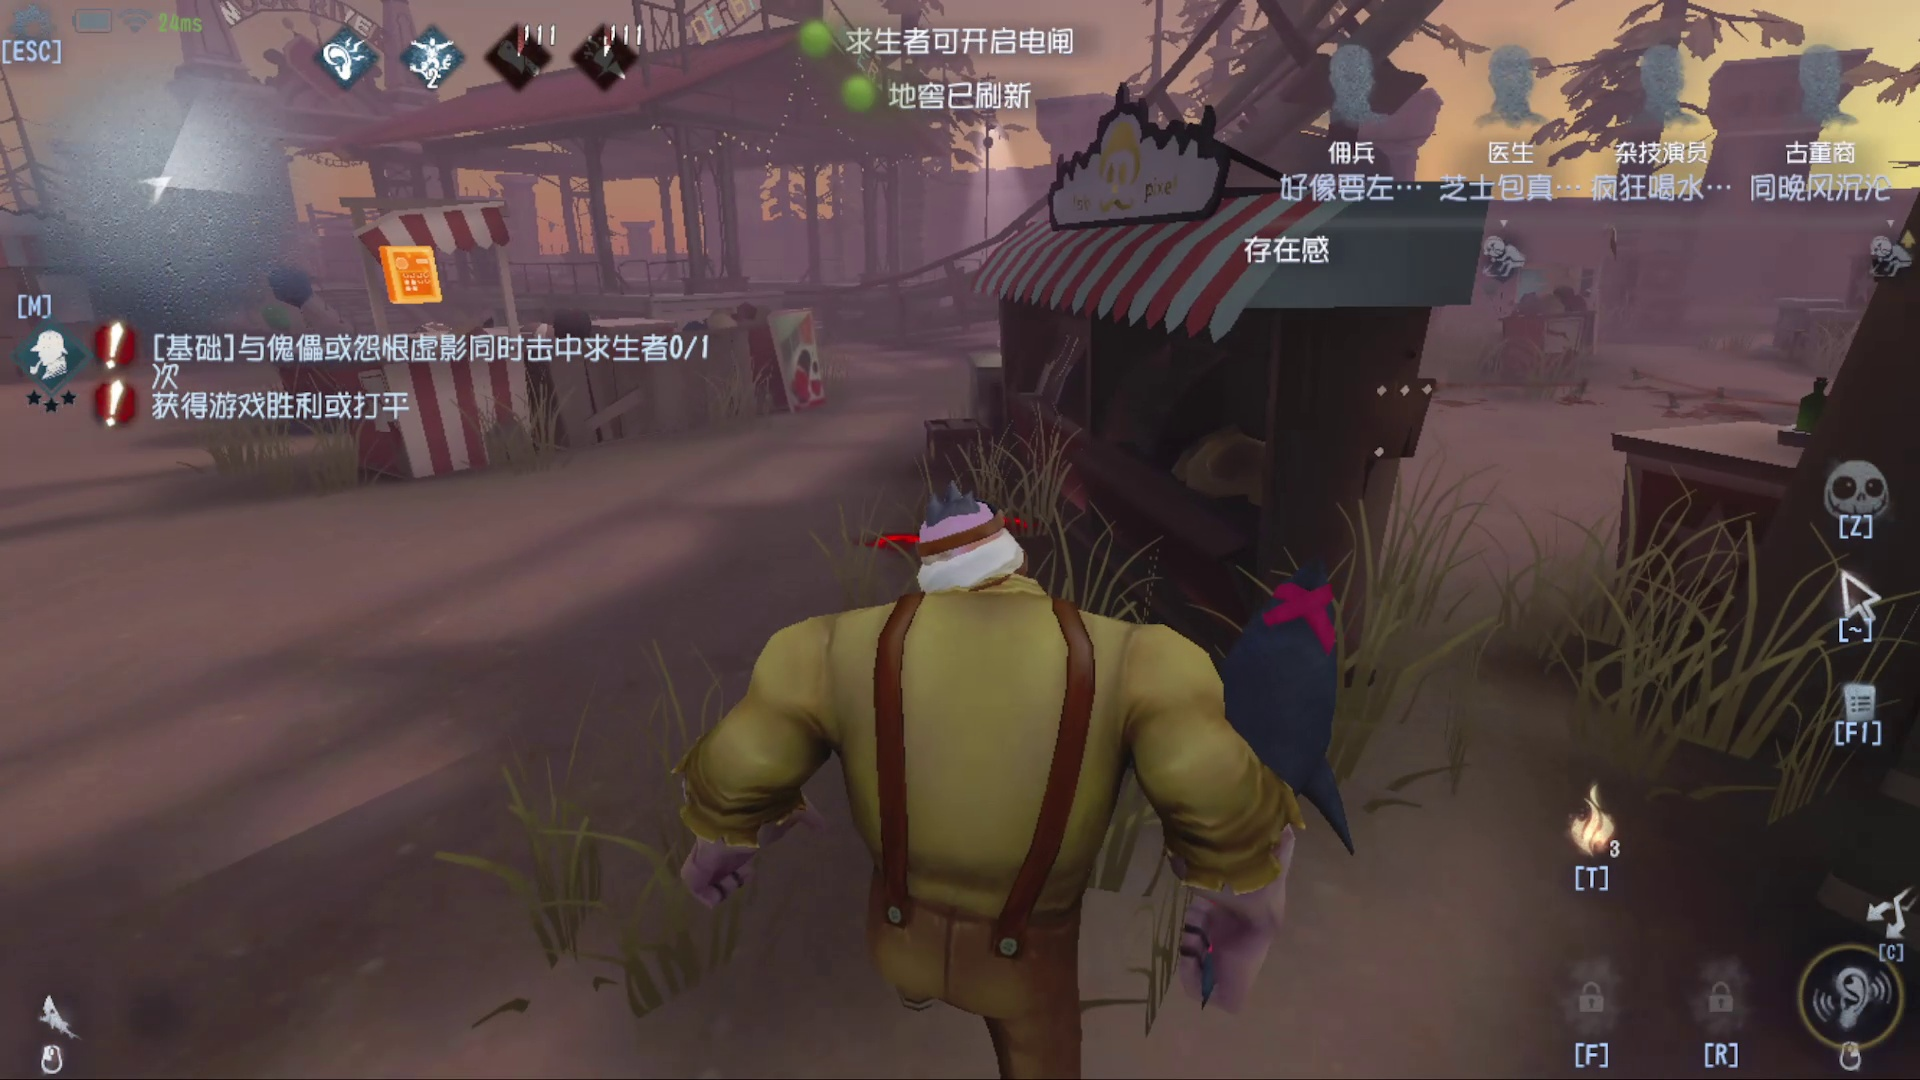脚印: (1629, 347, 1749, 425)
